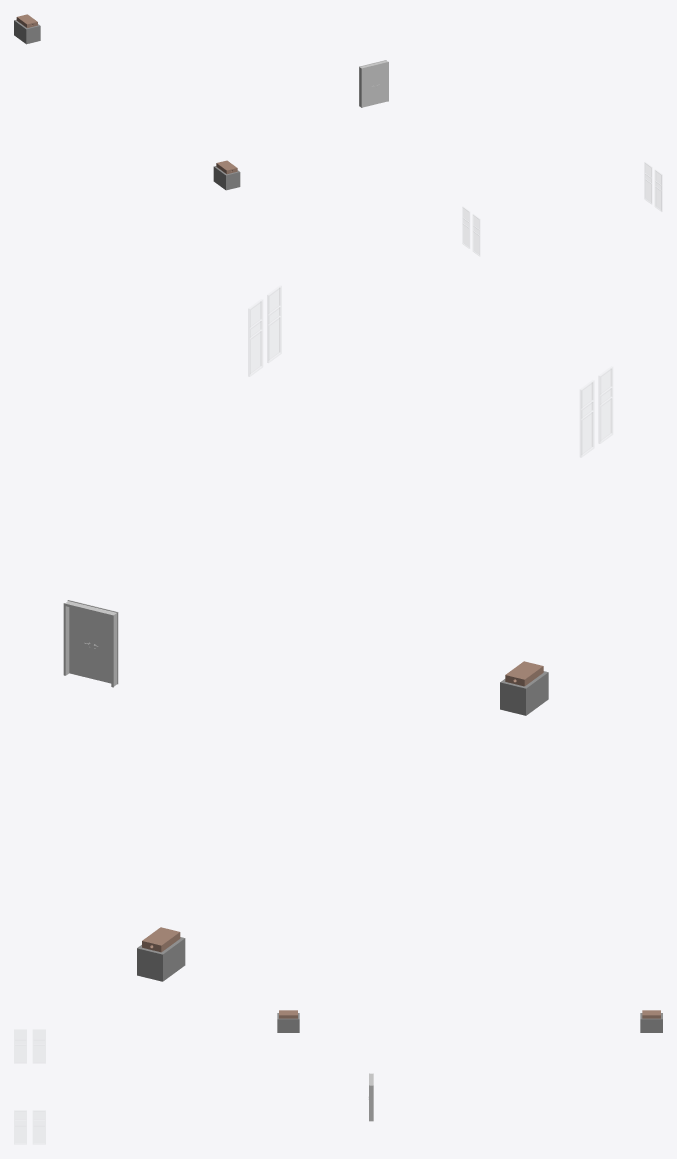
3 views of the same model, one above another, from view 1: azimuth 30°, elevation 25°; view 2: azimuth 150°, elevation 25°; view 3: azimuth 270°, elevation 25° (orthographic). The views are drawn at different scales.
Bounding box in the file's own units: 16.36 × 2.7 × 34.59.
